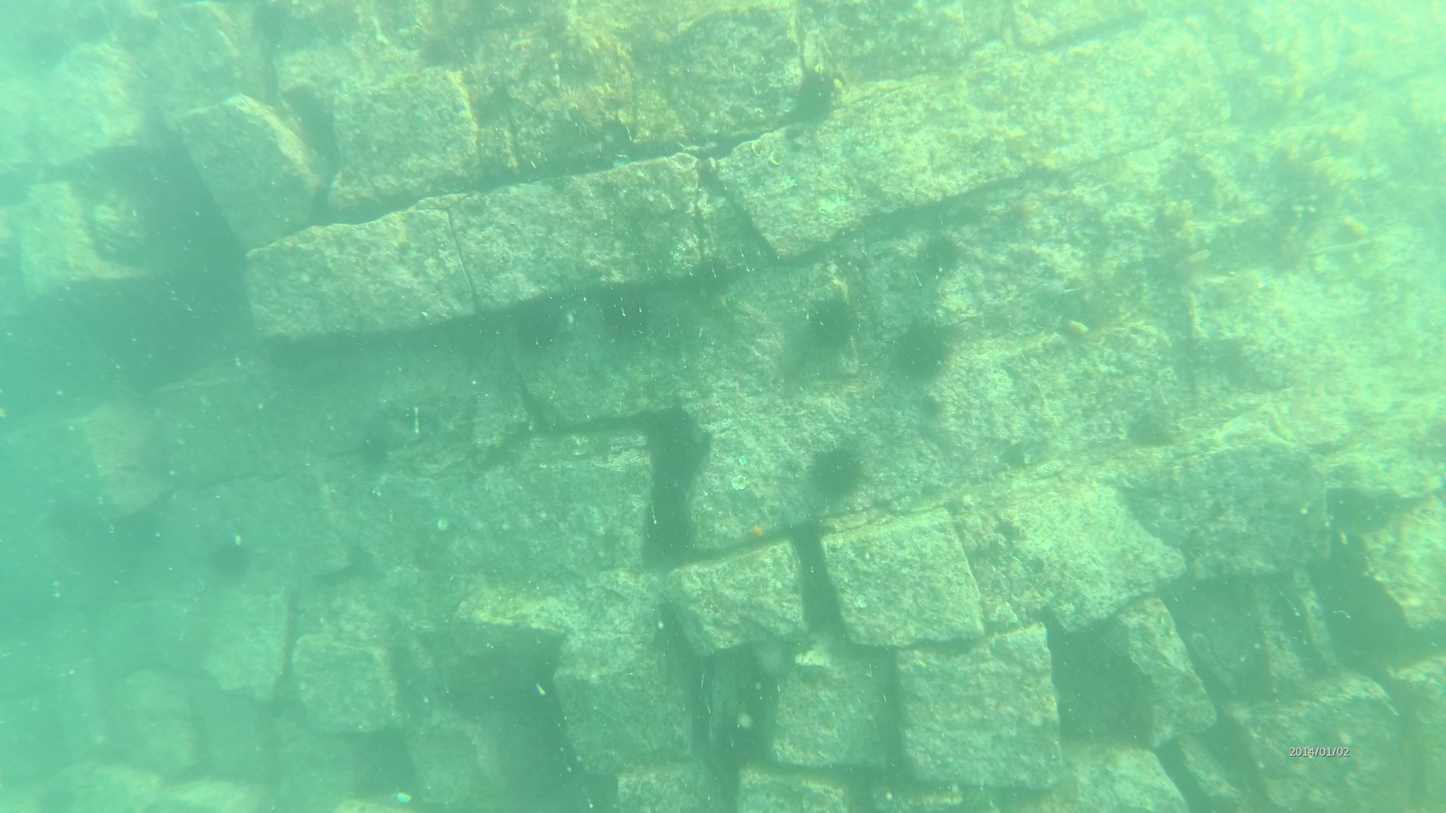starfish: (897, 316, 957, 379), (788, 73, 840, 132), (810, 446, 863, 498), (811, 300, 858, 350), (601, 297, 651, 343), (686, 257, 742, 297), (920, 235, 963, 287), (525, 310, 574, 353), (209, 543, 252, 576)
